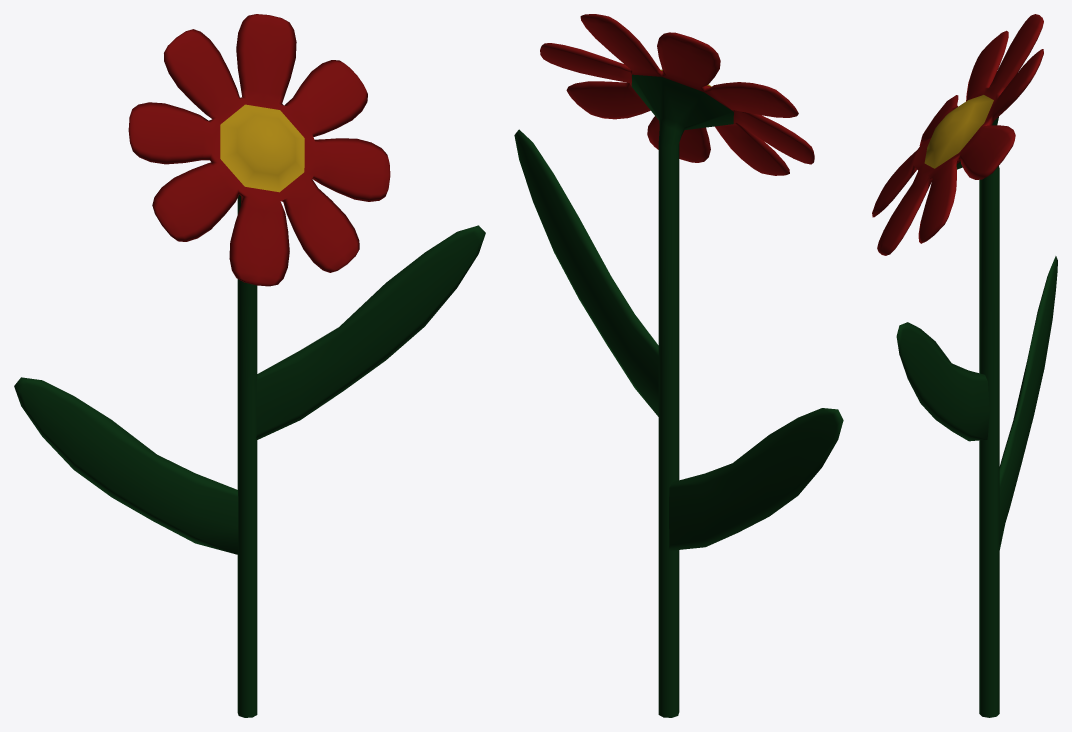
File: cartoon_flower.dae
3 views of the same model, side by side, from view 1: azimuth 30°, elevation 25°; view 2: azimuth 150°, elevation 25°; view 3: azimuth 270°, elevation 25° (orthographic). The views are drawn at different scales.
Visible parts, largest first — view 1: Model_Flower; view 2: Model_Flower; view 3: Model_Flower.
Part boxes in pixels (box(x1,y1,x2,y2)): Model_Flower: box(14, 14, 485, 717); Model_Flower: box(514, 14, 843, 717); Model_Flower: box(872, 14, 1057, 717).
Bounding box in the file's own units: 0.0447 × 0.0182 × 0.0732.
